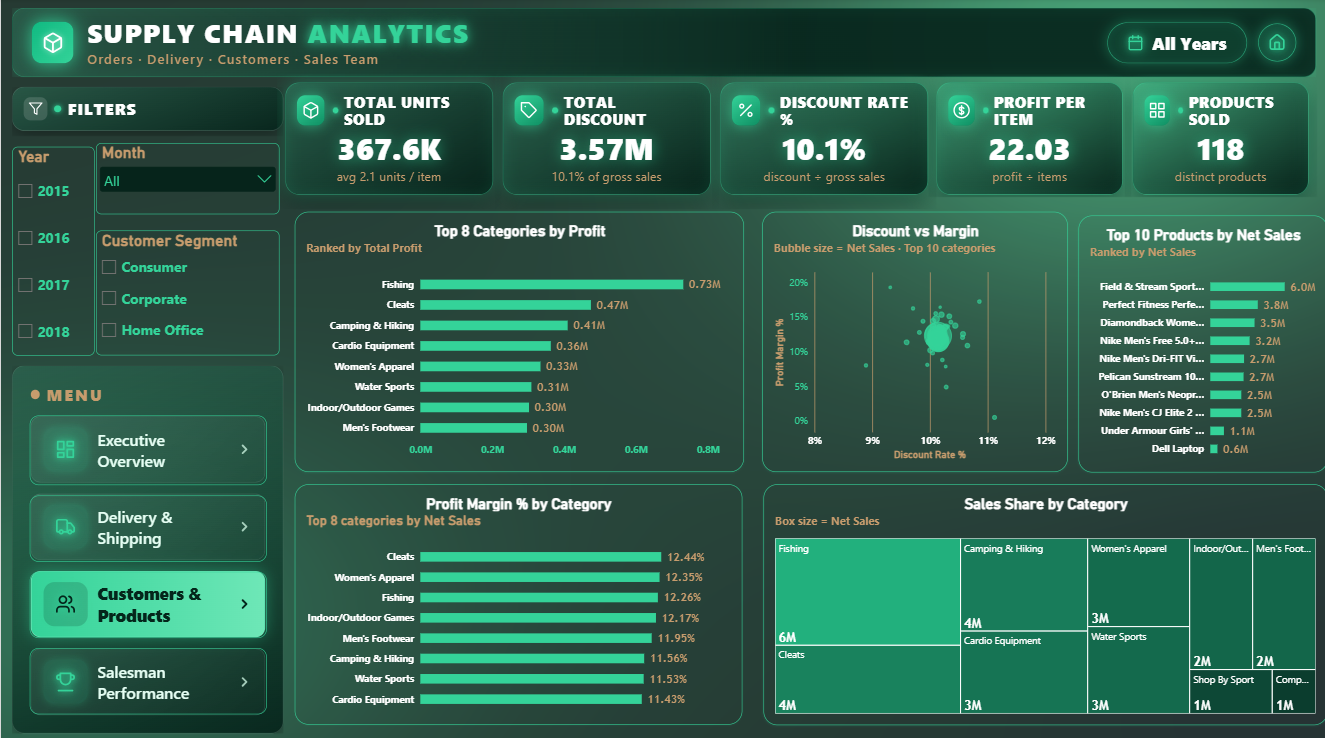

Layout of this report page (visuals, bound fields, positions):
{"tool":"powerbi","page":{"name":"Product & Category Performance","canvas":[1920,1080],"ordinal":3},"visuals":[{"type":"htmlContent443BE3AD55E043BF878BED274D3A6855","fields":{"content":["Base HTML.HTML Header"]},"box":[0,0,1920,129.7],"z":0},{"type":"htmlContent443BE3AD55E043BF878BED274D3A6855","fields":{"content":["Base HTML.HTML Filter Header"]},"box":[0,114.4,424.7,100.8],"z":1000},{"type":"htmlContent443BE3AD55E043BF878BED274D3A6855","fields":{"content":["Base HTML.HTML Menu P3"]},"box":[0,517.6,424.7,562.4],"z":2000},{"type":"htmlContent443BE3AD55E043BF878BED274D3A6855","fields":{"content":["HTML DASHBOARD 3.Card Units Sold"]},"box":[384,95,357.2,225.2],"z":3000},{"type":"htmlContent443BE3AD55E043BF878BED274D3A6855","fields":{"content":["HTML DASHBOARD 3.Card Discount"]},"box":[698.3,95,357.2,225.2],"z":4000},{"type":"htmlContent443BE3AD55E043BF878BED274D3A6855","fields":{"content":["HTML DASHBOARD 3.Card Discount Rate"]},"box":[1012.5,95,357.2,225.2],"z":5000},{"type":"htmlContent443BE3AD55E043BF878BED274D3A6855","fields":{"content":["HTML DASHBOARD 3.Card Profit per Item"]},"box":[1326.8,95,325.8,207.5],"z":6000},{"type":"htmlContent443BE3AD55E043BF878BED274D3A6855","fields":{"content":["HTML DASHBOARD 3.Card Products"]},"box":[1609.7,95,310.3,207.5],"z":7000},{"type":"clusteredBarChart","title":"Top 8 Categories by Profit","fields":{"Category":["Gold DimProducts.Category_Name"],"Y":["CALC Executive Sales & Profit Overview.Total Profit"]},"box":[424.5,309.4,650.6,376.9],"z":8000},{"type":"scatterChart","title":"Discount vs Margin","fields":{"Category":["Gold DimProducts.Category_Name"],"Size":["CALC Executive Sales & Profit Overview.Total Net Sales"],"X":["CALC Product & Category Performance.Discount Rate %"],"Y":["CALC Executive Sales & Profit Overview.Profit Margin %"]},"box":[1102.8,309.4,442.3,376.9],"z":9000},{"type":"clusteredBarChart","title":"Profit Margin % by Category","fields":{"Category":["Gold DimProducts.Category_Name"],"Y":["CALC Executive Sales & Profit Overview.Profit Margin %"]},"box":[425.6,704.8,647.6,347.8],"z":10000},{"type":"clusteredBarChart","title":"Top 10 Products by Net Sales","fields":{"Category":["Gold DimProducts.Product_Name"],"Y":["CALC Executive Sales & Profit Overview.Total Net Sales"]},"box":[1559.3,314.2,360.7,372.4],"z":11000},{"type":"treemap","title":"Sales Share by Category","fields":{"Group":["Gold DimProducts.Category_Name"],"Values":["CALC Executive Sales & Profit Overview.Total Net Sales"]},"box":[1103.5,704,816.5,349.1],"z":12000},{"type":"slicer","fields":{"Values":["Gold DimDate.Year"]},"box":[16,215.1,119,302.1],"z":13000},{"type":"slicer","fields":{"Values":["Gold DimCustomers.customer_segment"]},"box":[137.3,336.4,265.5,180.8],"z":14000},{"type":"slicer","fields":{"Values":["Gold DimDate.Month_Name"]},"box":[137.3,210.5,265.5,103],"z":15000},{"type":"actionButton","box":[41.2,604.1,343.3,100.7],"z":16000},{"type":"actionButton","box":[41.2,720.9,343.3,96.1],"z":17000},{"type":"actionButton","box":[41.2,940.5,343.3,96.1],"z":18000},{"type":"actionButton","box":[41.2,830.7,343.3,96.1],"z":19000},{"type":"actionButton","box":[1811.4,27.2,73.7,71.8],"z":19001}]}

Visuals, with their boxes in screenshot pixels (x1, y1, x2, y2), scaled from the page's 1920x1080 canvas onto the 1325x738 screenshot:
htmlContent443BE3AD55E043BF878BED274D3A6855 - Base HTML.HTML Header: 0:0:1324:89
htmlContent443BE3AD55E043BF878BED274D3A6855 - Base HTML.HTML Filter Header: 0:78:293:147
htmlContent443BE3AD55E043BF878BED274D3A6855 - Base HTML.HTML Menu P3: 0:354:293:737
htmlContent443BE3AD55E043BF878BED274D3A6855 - HTML DASHBOARD 3.Card Units Sold: 265:65:512:219
htmlContent443BE3AD55E043BF878BED274D3A6855 - HTML DASHBOARD 3.Card Discount: 482:65:728:219
htmlContent443BE3AD55E043BF878BED274D3A6855 - HTML DASHBOARD 3.Card Discount Rate: 699:65:945:219
htmlContent443BE3AD55E043BF878BED274D3A6855 - HTML DASHBOARD 3.Card Profit per Item: 916:65:1140:207
htmlContent443BE3AD55E043BF878BED274D3A6855 - HTML DASHBOARD 3.Card Products: 1111:65:1324:207
"Top 8 Categories by Profit" clusteredBarChart: 293:211:742:469
"Discount vs Margin" scatterChart: 761:211:1066:469
"Profit Margin % by Category" clusteredBarChart: 294:482:741:719
"Top 10 Products by Net Sales" clusteredBarChart: 1076:215:1324:469
"Sales Share by Category" treemap: 762:481:1324:720
slicer - Gold DimDate.Year: 11:147:93:353
slicer - Gold DimCustomers.customer_segment: 95:230:278:353
slicer - Gold DimDate.Month_Name: 95:144:278:214
actionButton: 28:413:265:482
actionButton: 28:493:265:558
actionButton: 28:643:265:708
actionButton: 28:568:265:633
actionButton: 1250:19:1301:68
